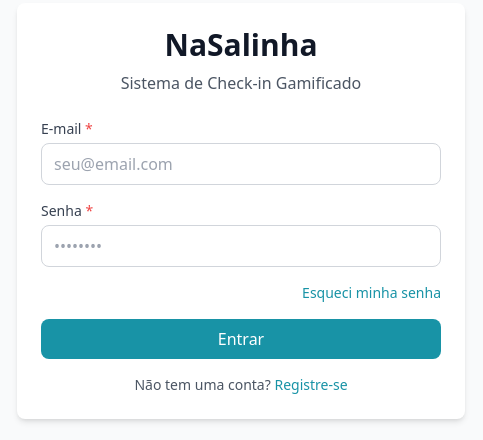
Test: Login Page › shows loading state during submission
Type "joao@example.com" into the field labelled "E-mail *". click: (241, 164)
box: [41,143,441,185]
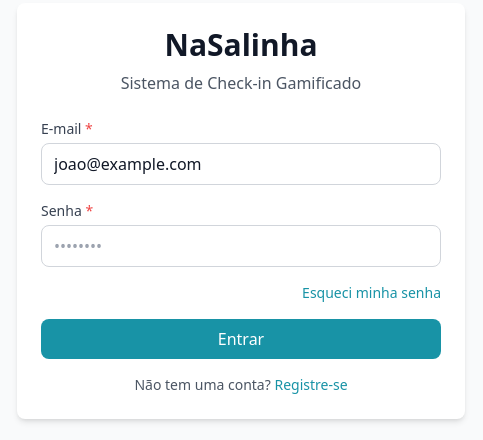
Type "senha123" into the password field labelled "Senha *". click: (241, 246)
box: [41,225,441,267]
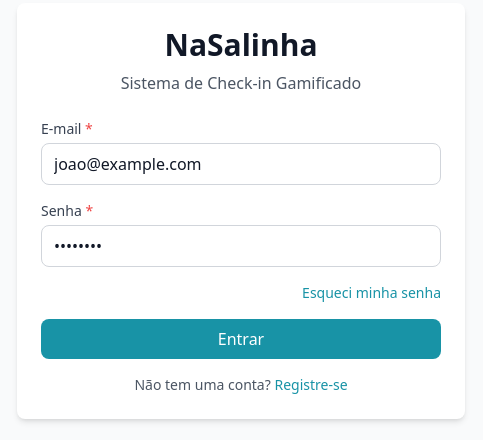
Click the button "Entrar". click: (241, 339)
box: [41,319,441,359]
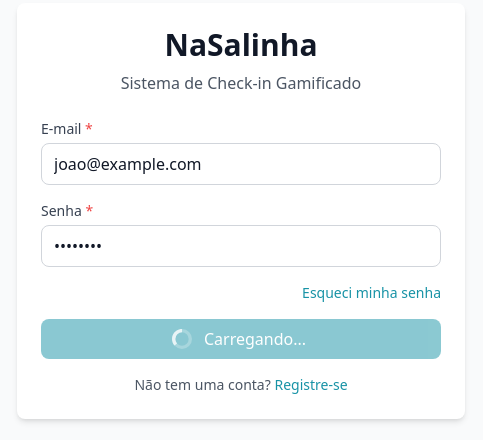
Now the text "Carregando..." is shown, box [204,328,306,350]
